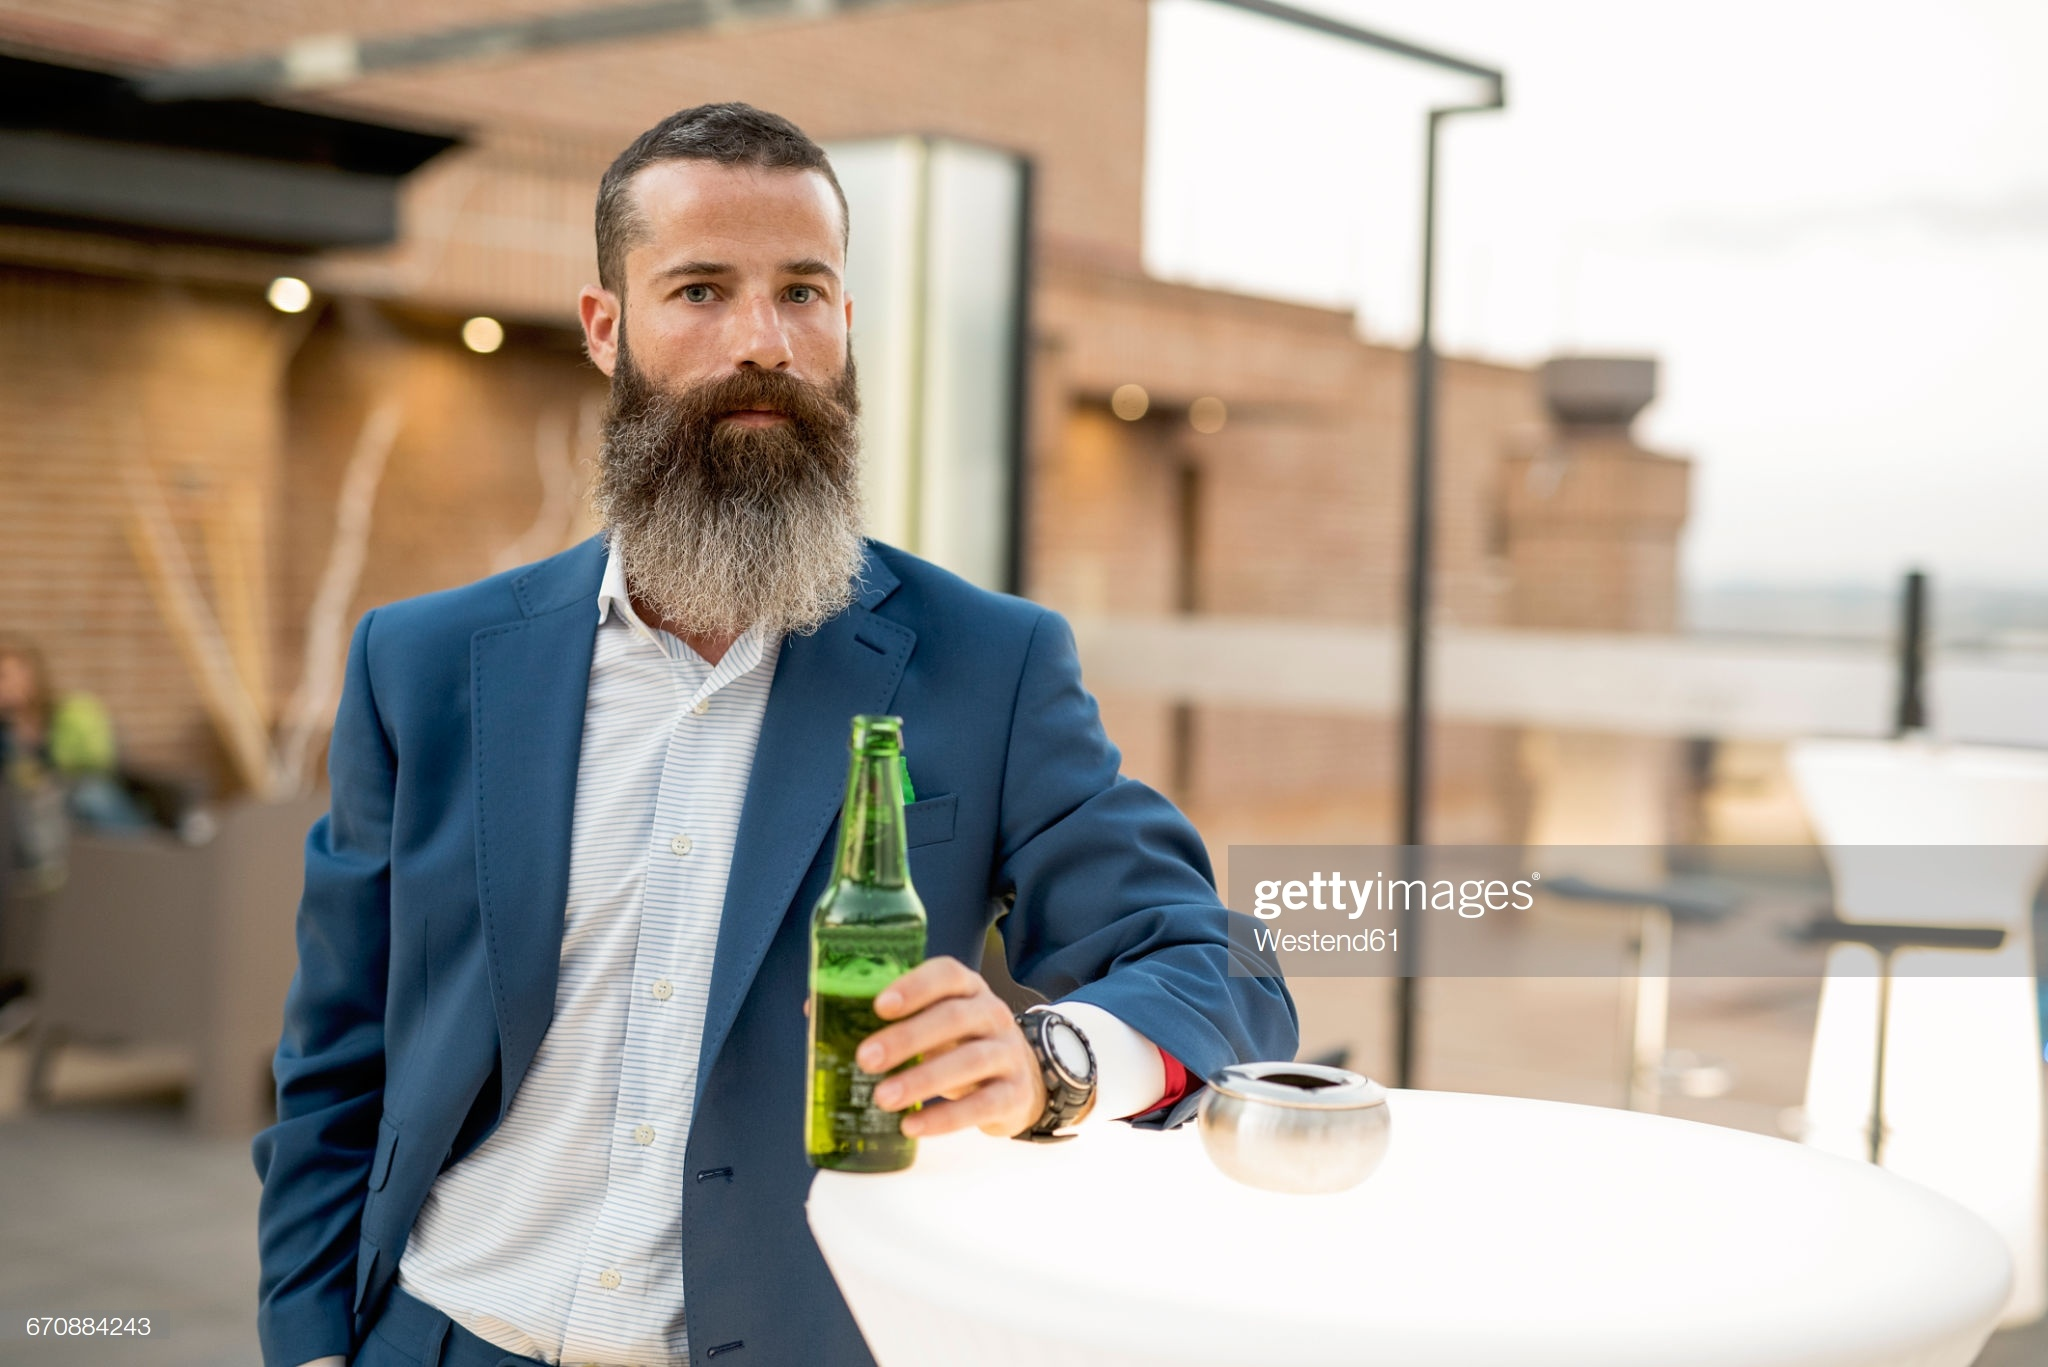beerBottle: (811, 719, 920, 1181)
